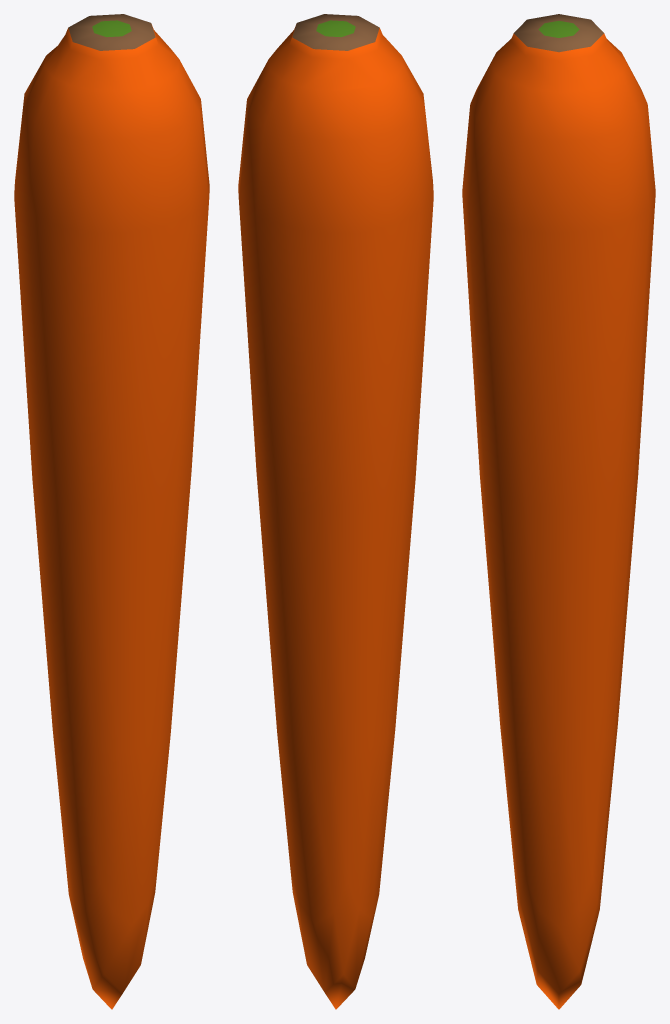
The model's file is carrot.glb.
The picture shows the model from 3 angles, left to right: view 1: azimuth 30°, elevation 25°; view 2: azimuth 150°, elevation 25°; view 3: azimuth 270°, elevation 25°; orthographic projection.
Visible parts, largest first — view 1: Carrot; view 2: Carrot; view 3: Carrot.
Boxes of the visible parts, box(x1,y1,x2,y2) form: Carrot: box(14, 14, 209, 1009); Carrot: box(238, 14, 433, 1009); Carrot: box(462, 14, 655, 1009).
Size of the model in its own units: 0.0304 by 0.1701 by 0.0304.
1 material, 1 textured.
